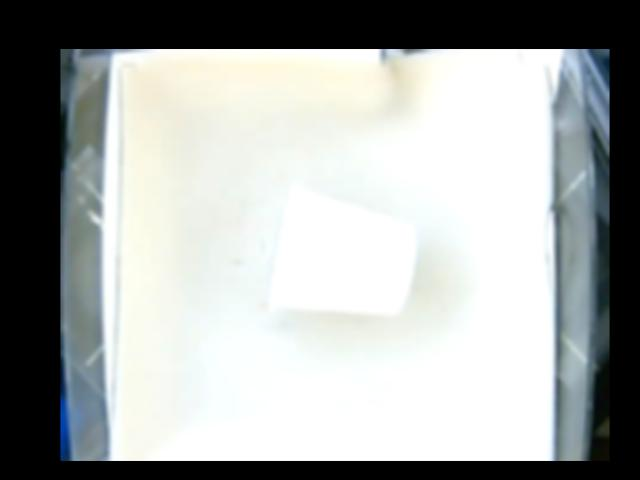Cup: (267, 179, 417, 317)
